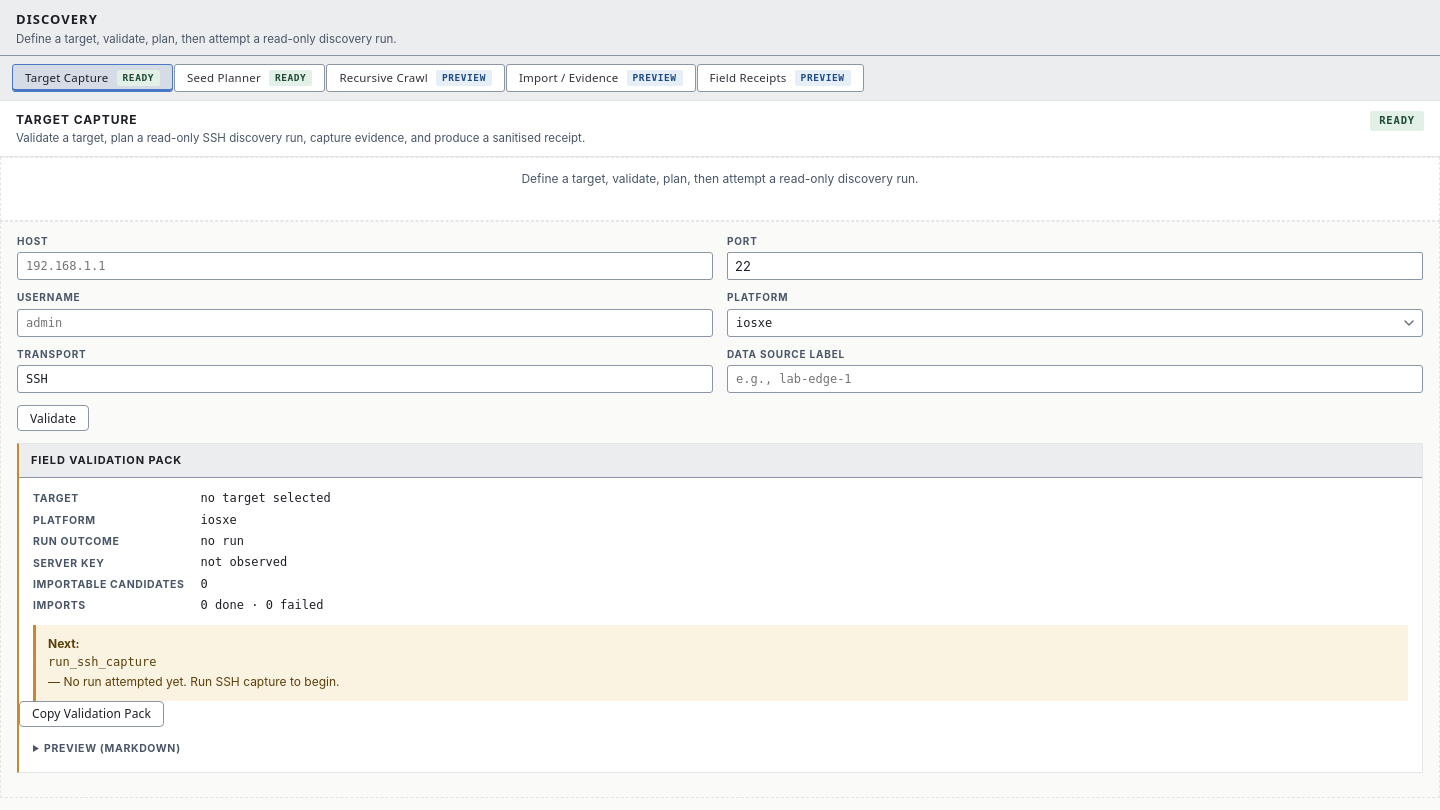
Test case: DiscoveryMode — workbench (V1BH) › Recursive Crawl renders live CrawlPreviewPanel
Click the tab with test id "mwb-tool-recursive_crawl" at (416, 78), box [326, 64, 505, 92]
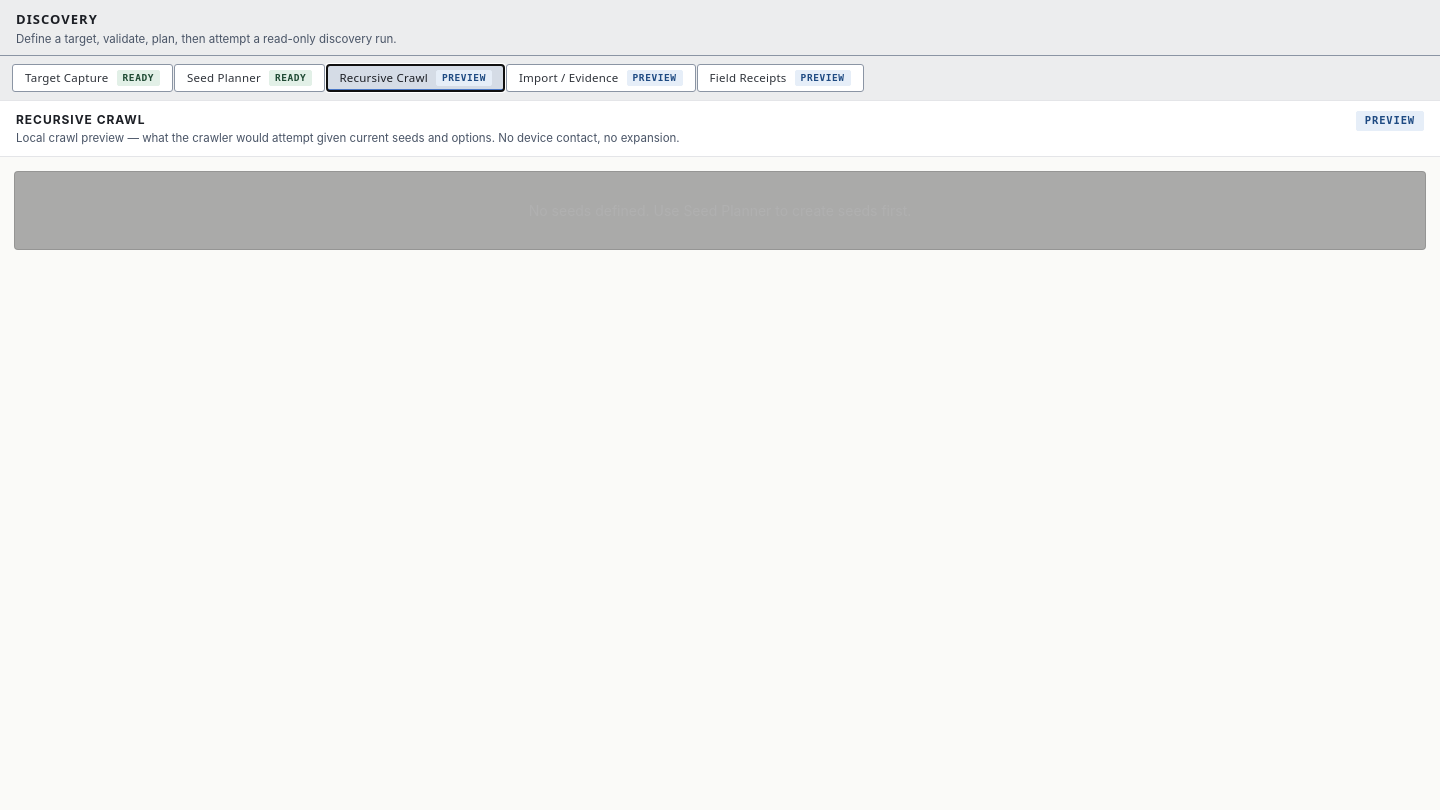
Check: the element with test id "crawl-preview-panel" is shown, box [0, 157, 1439, 264]
Check: the message "No seeds defined. Use Seed Planner to create seeds first." is shown, box [14, 171, 1426, 250]
